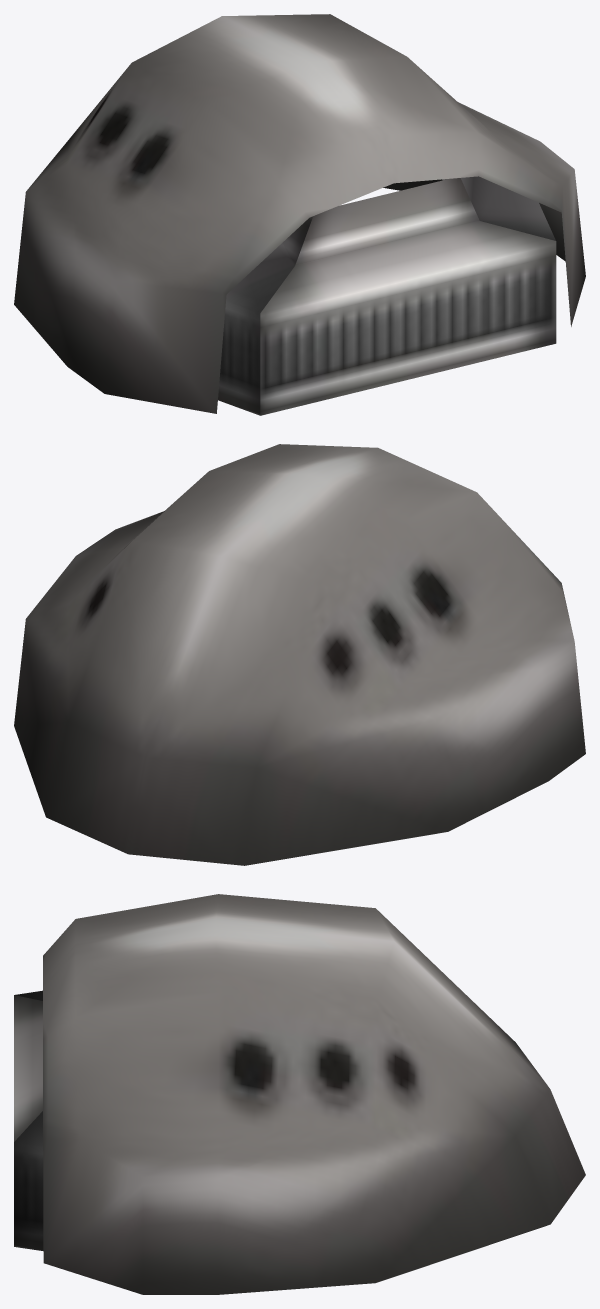
Rendered from acc_7.glb.
3 views of the same model, one above another, from view 1: azimuth 30°, elevation 25°; view 2: azimuth 150°, elevation 25°; view 3: azimuth 270°, elevation 25° (orthographic).
Visible parts, largest first — view 1: vertex, Inside; view 2: vertex; view 3: vertex, Inside.
Part boxes in pixels (box(x1,y1,x2,y2)): vertex: box(14, 14, 585, 413); Inside: box(218, 176, 556, 415); vertex: box(14, 444, 585, 865); vertex: box(43, 894, 585, 1294); Inside: box(14, 990, 43, 1250).
Bounding box in the file's own units: 0.5425 × 0.2655 × 0.5473.
2 materials, 2 textured.
